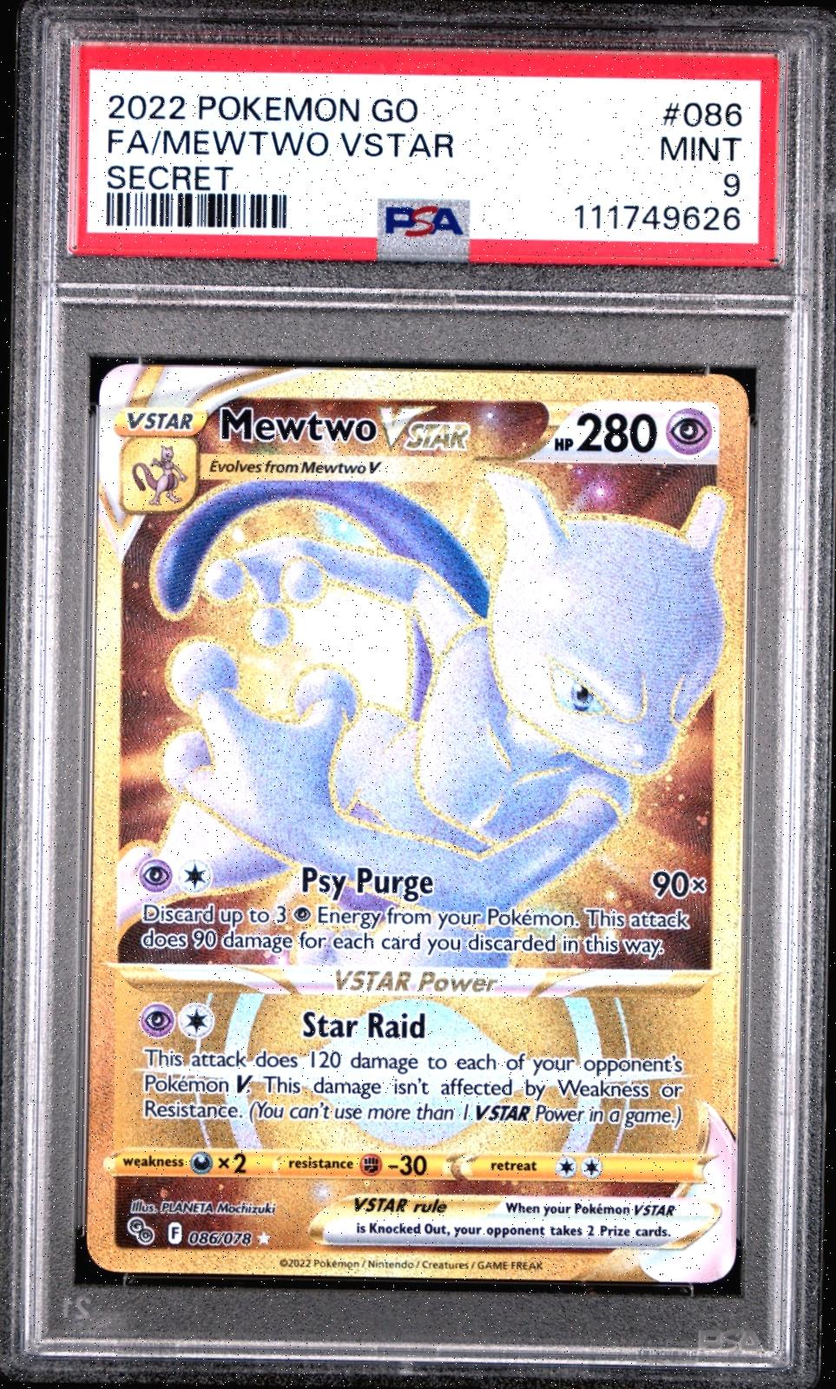card-2UtV: (85, 363, 749, 1284)
